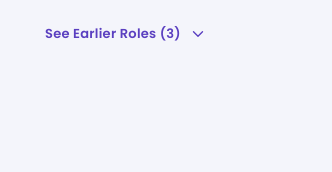
Test: Disclosure › toggles aria-expanded, its label and the controlled region
This screenshot has width=332, height=172.
Expected: the text "Web Designer" is not shown
What coordinates should you click on to do the following:
click the button "See Earlier Roles (3)"
I would click on:
 (126, 34)
Its box is [12, 12, 240, 56].
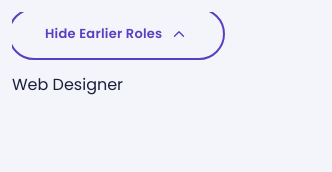
What coordinates should you click on to do the following:
click the button "Hide Earlier Roles"
I would click on:
 (117, 34)
Its box is [12, 12, 222, 56].
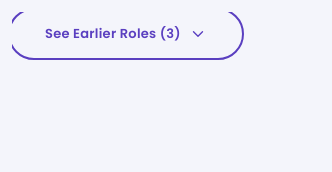
Expected: the text "Web Designer" is gone
